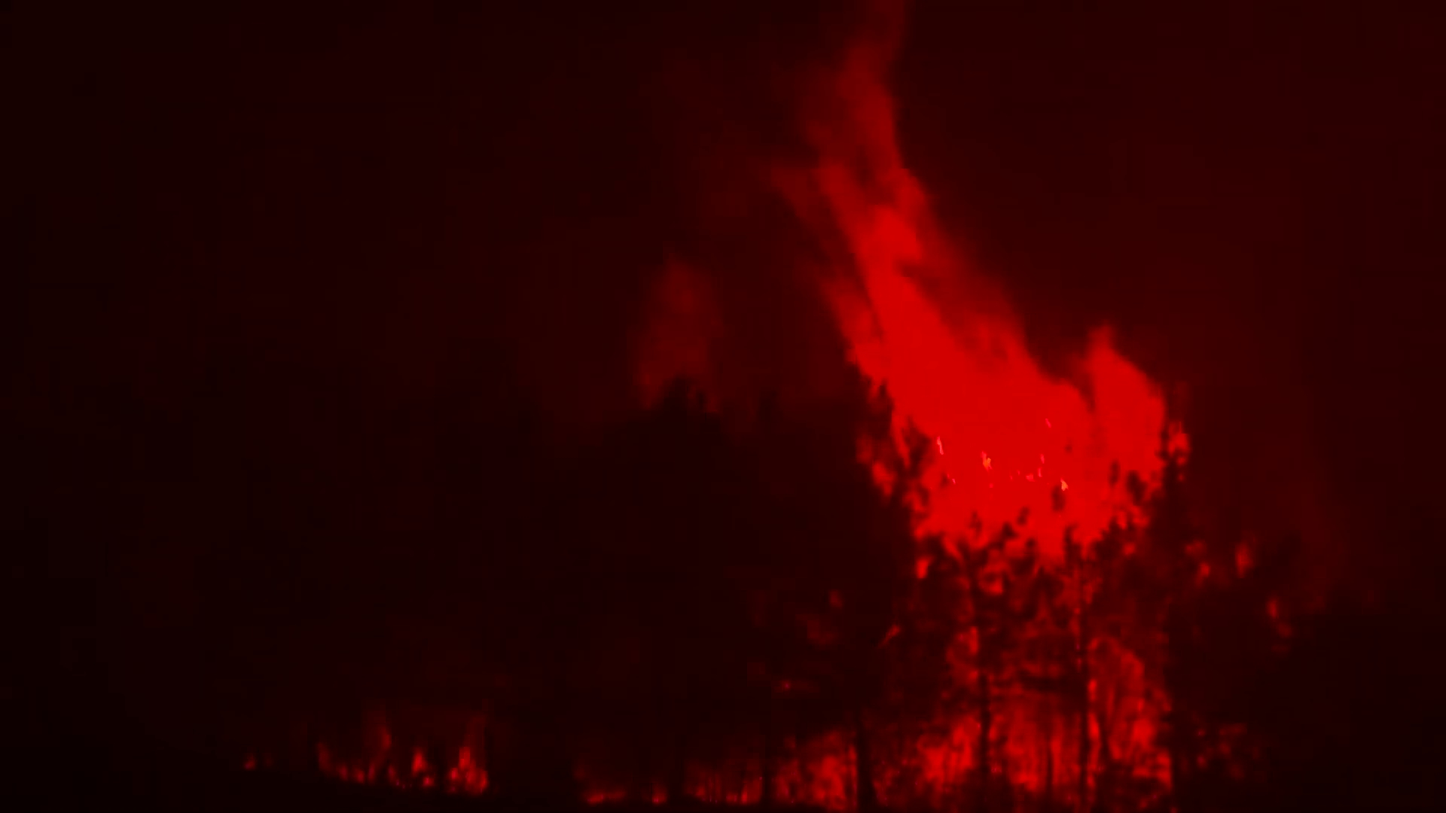forest_fire: (784, 46, 1164, 553)
